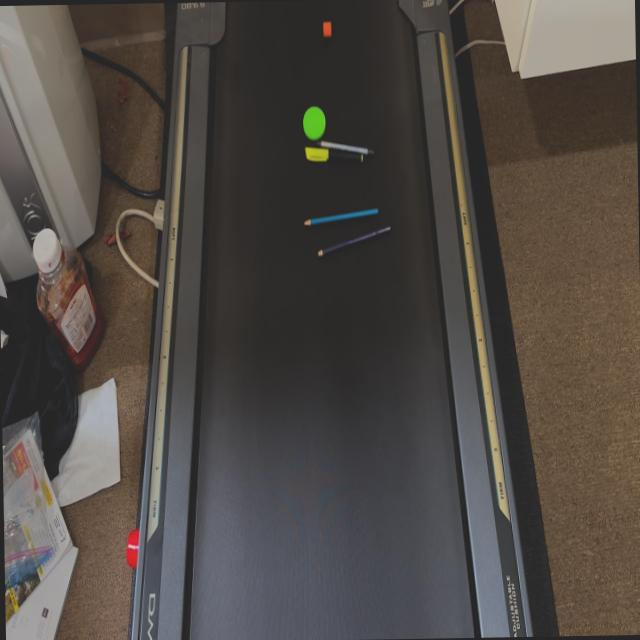Trash: (290, 192, 434, 288), (296, 96, 388, 180), (316, 12, 342, 43)
